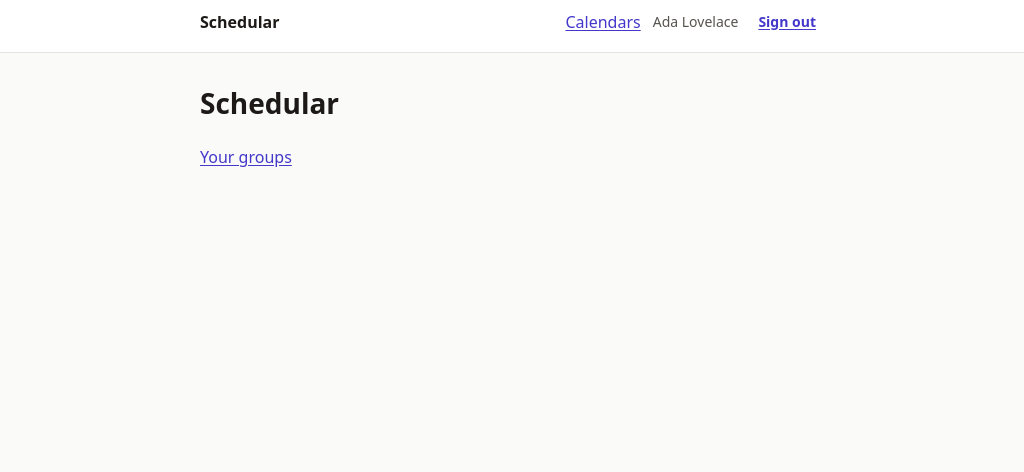
it: routing › navigates to /groups from the home page link
The width and height of the screenshot is (1024, 472).
What coordinates should you click on to do the following:
click the link "Your groups"
I would click on:
 (246, 157)
Its box is top-left (200, 145), bottom-right (292, 169).
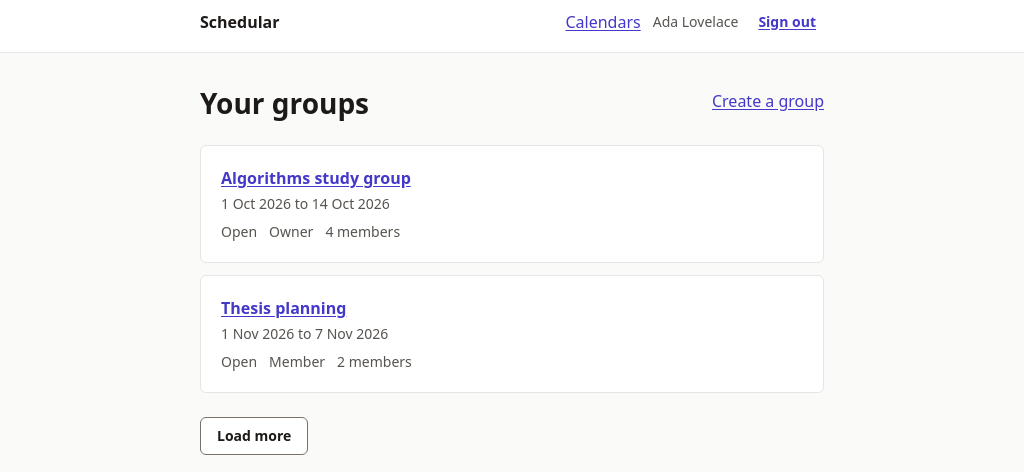
Now the heading "Your groups" is shown, box top-left (200, 85), bottom-right (369, 121)
Now the link "Algorithms study group" is shown, box top-left (221, 167), bottom-right (411, 189)
